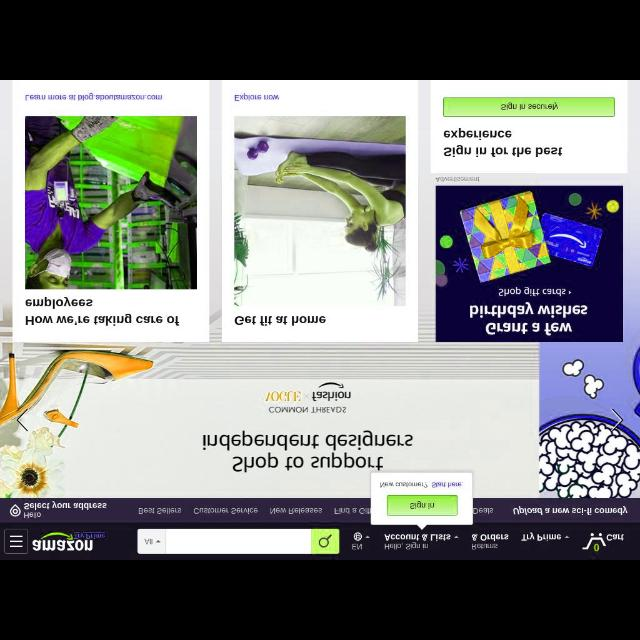backgroundimage: (2, 122, 640, 498)
button: (4, 528, 28, 554)
icon: (608, 408, 624, 430), (17, 408, 31, 432), (318, 532, 334, 548), (8, 534, 24, 548), (10, 503, 22, 517), (353, 532, 362, 540), (453, 534, 459, 540), (156, 540, 160, 542), (366, 536, 370, 538), (566, 536, 568, 538)
image: (234, 117, 408, 309), (25, 116, 199, 290), (434, 184, 624, 342), (31, 530, 107, 552), (581, 532, 607, 552)
input: (136, 526, 340, 556)
link: (74, 532, 106, 540)
multitab: (1, 496, 639, 522)
panel: (370, 471, 472, 525)
spinner: (382, 532, 462, 552), (518, 530, 572, 544)
text: (24, 296, 180, 326), (443, 128, 565, 158), (24, 501, 108, 519), (514, 505, 628, 515), (24, 94, 164, 102), (234, 314, 326, 326), (470, 533, 510, 549), (501, 101, 559, 111), (384, 533, 451, 541), (380, 482, 464, 488), (520, 532, 562, 542), (270, 507, 322, 515), (192, 508, 258, 514), (234, 93, 280, 101), (384, 542, 430, 550), (138, 507, 182, 515), (334, 506, 371, 514), (434, 176, 480, 182), (410, 500, 436, 510), (606, 533, 624, 541), (473, 508, 492, 514), (144, 538, 154, 544), (352, 544, 362, 550)
textbutton: (442, 96, 618, 118)
toolbar: (1, 522, 639, 558)
